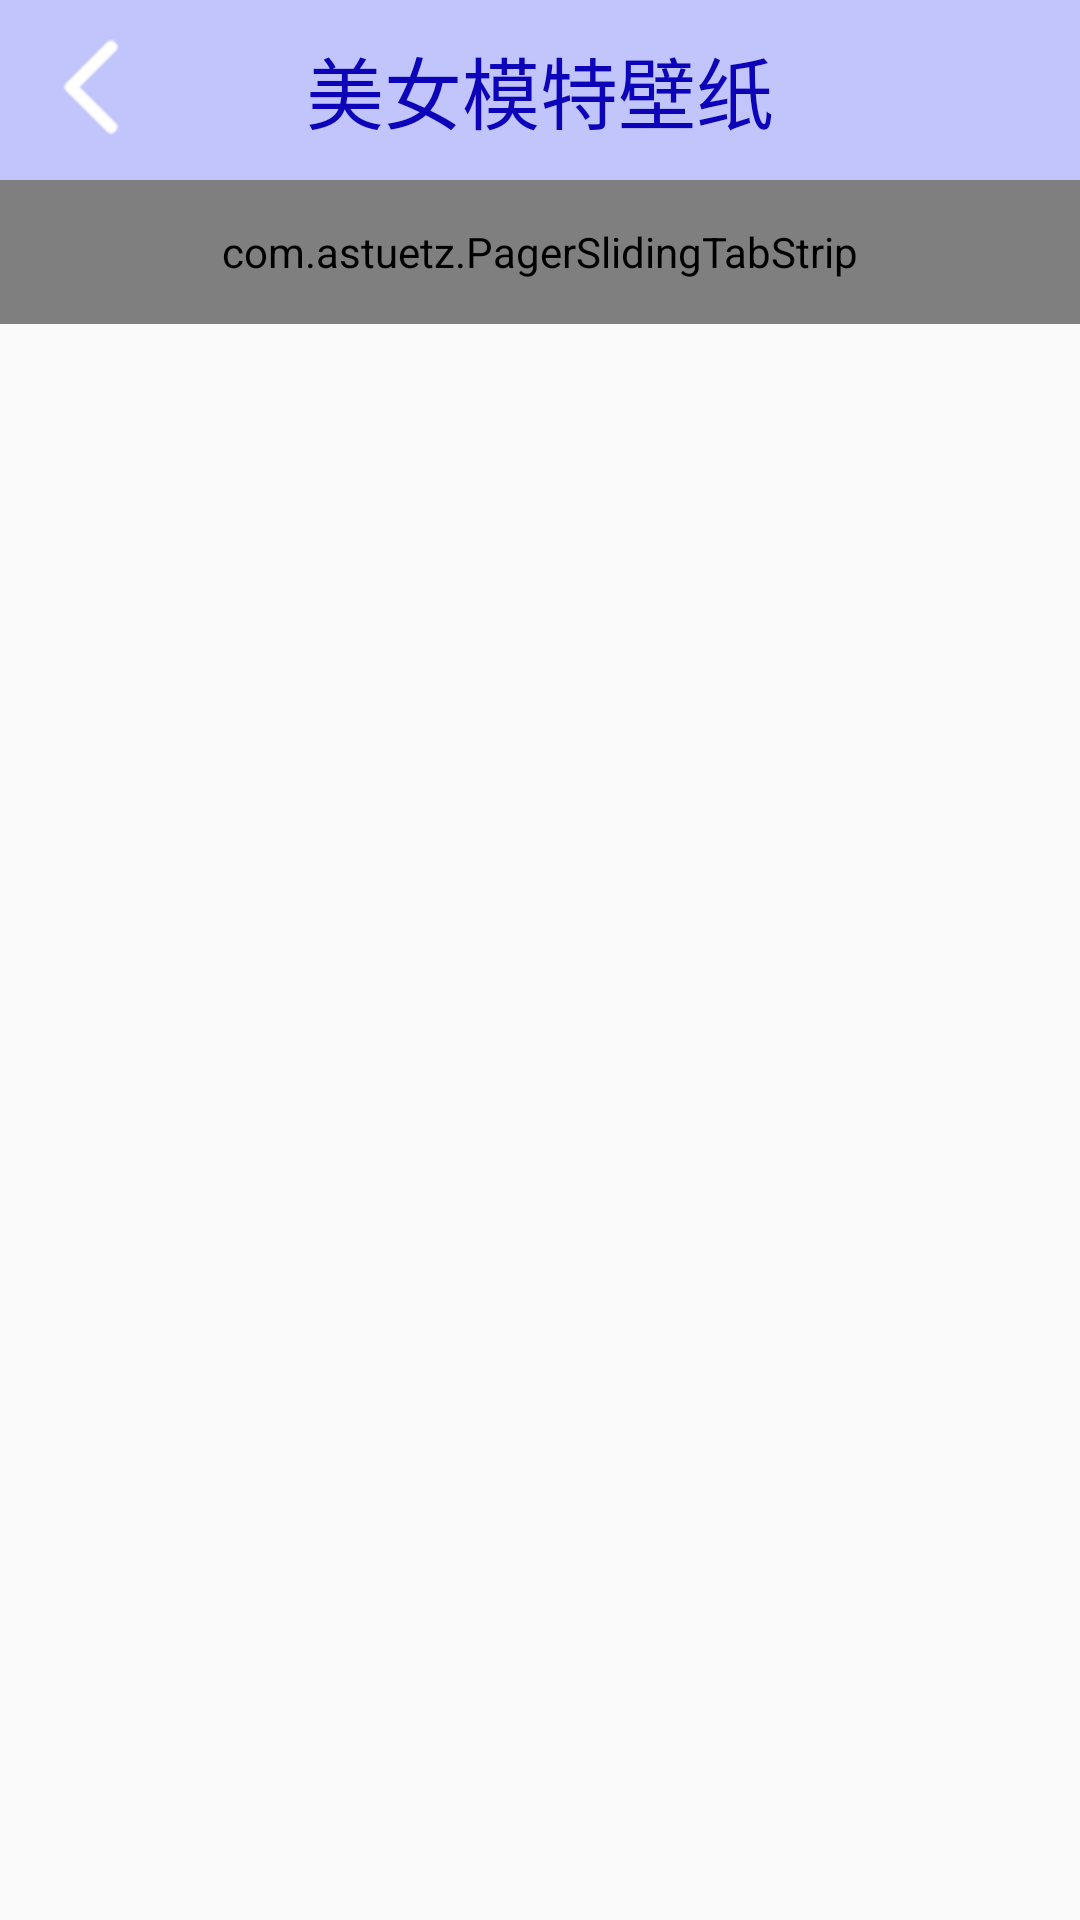

Where to tap for icons on this 1080*1920 app screen, as [x,y]:
return: [91,87]
